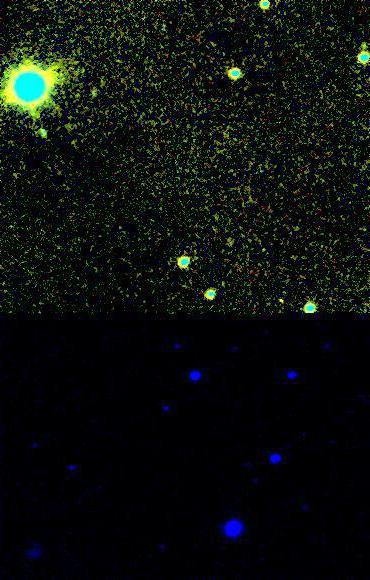star: (354, 27, 370, 57)
